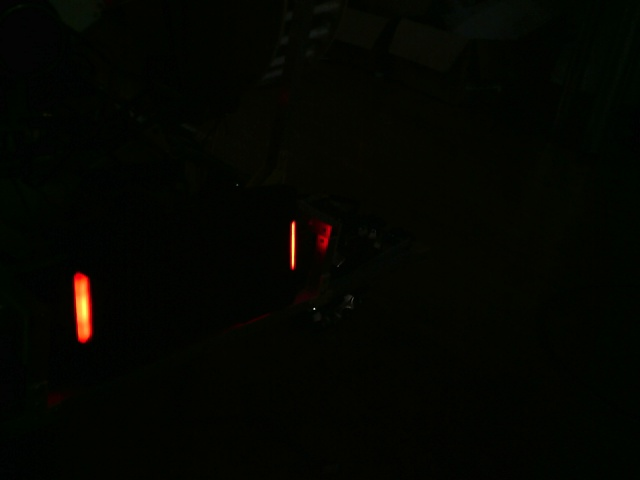lamp: (69, 269, 99, 349), (283, 217, 299, 272)
